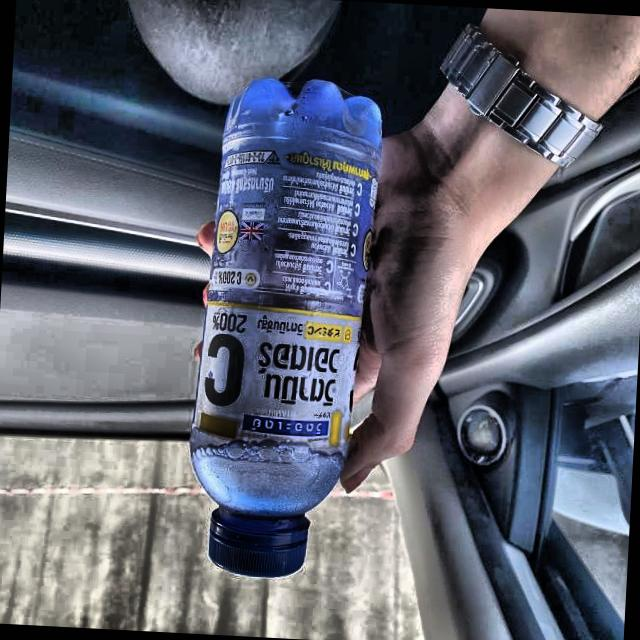plastic bottle: (189, 78, 382, 577)
